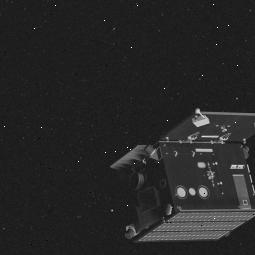proba_2: (104, 118, 255, 254)
